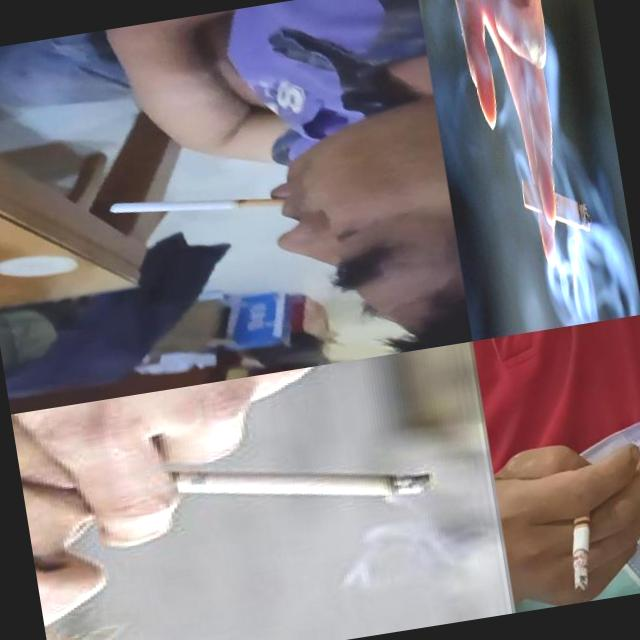smoke: (90, 423, 435, 545), (106, 176, 289, 234), (520, 168, 593, 242), (558, 491, 608, 594)
